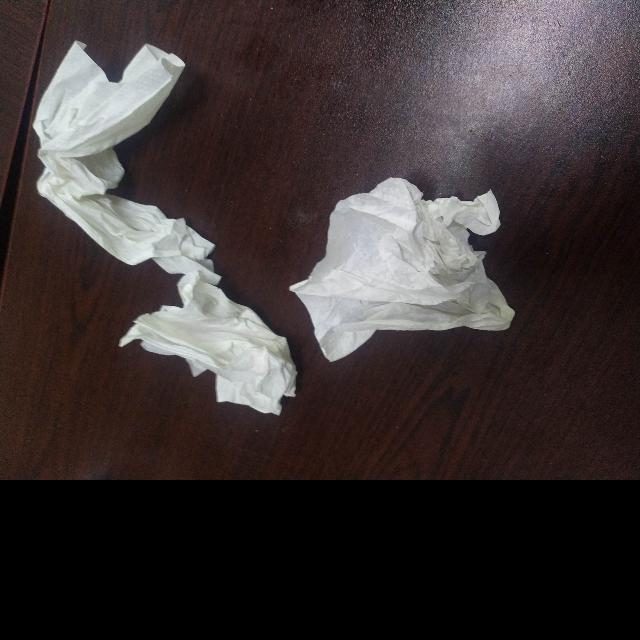kitchen paper: (270, 175, 525, 358), (24, 36, 196, 269), (116, 269, 332, 432)
